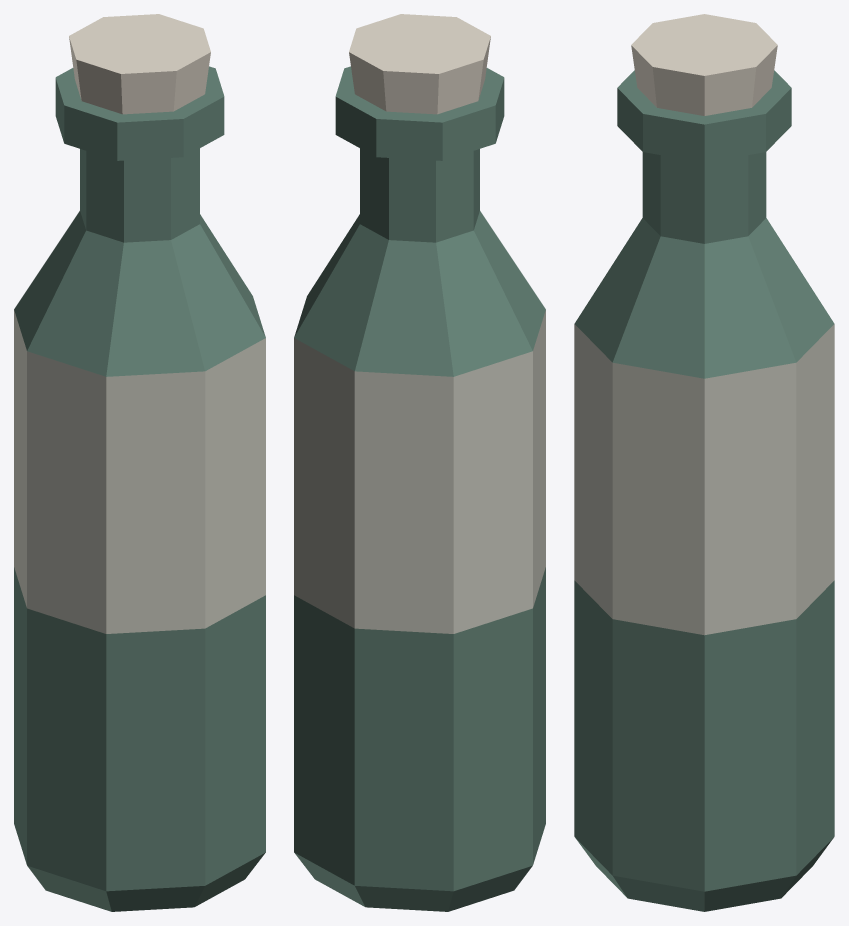
The model's file is Bottle1.fbx.
3 renders of one model, left to right at view 1: azimuth 30°, elevation 25°; view 2: azimuth 150°, elevation 25°; view 3: azimuth 270°, elevation 25°, orthographic.
Parts seen in each view (by area): view 1: Bottle1B.002; view 2: Bottle1B.002; view 3: Bottle1B.002.
Part boxes in pixels (left/top/right/bottom): Bottle1B.002: left=14, top=14, right=265, bottom=911; Bottle1B.002: left=294, top=14, right=545, bottom=911; Bottle1B.002: left=574, top=14, right=834, bottom=911.
Size of the model in its own units: 0.1897 by 0.661 by 0.1897.
